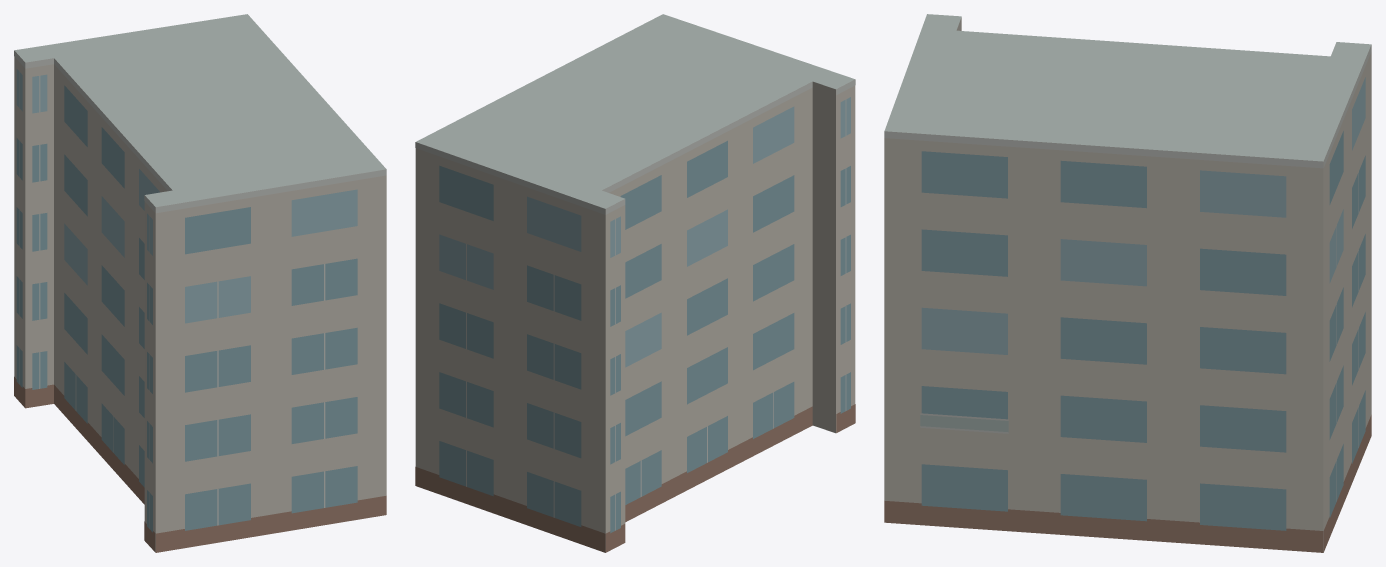
Rendered from survey-upis-32696453.glb.
3 views of the same model, side by side, from view 1: azimuth 30°, elevation 25°; view 2: azimuth 150°, elevation 25°; view 3: azimuth 270°, elevation 25° (orthographic). The views are drawn at different scales.
Visible parts, largest first — view 1: survey-upis-32696453.tmp; view 2: survey-upis-32696453.tmp; view 3: survey-upis-32696453.tmp.
Boxes of the visible parts, left/top/right/bottom form: survey-upis-32696453.tmp: left=14, top=14, right=386, bottom=552; survey-upis-32696453.tmp: left=415, top=14, right=855, bottom=552; survey-upis-32696453.tmp: left=884, top=14, right=1371, bottom=552.
Bounding box in the file's own units: 11.25 × 13.9 × 15.69.
